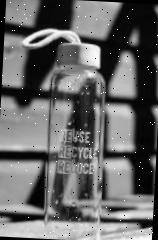glass: (41, 42, 111, 240)
